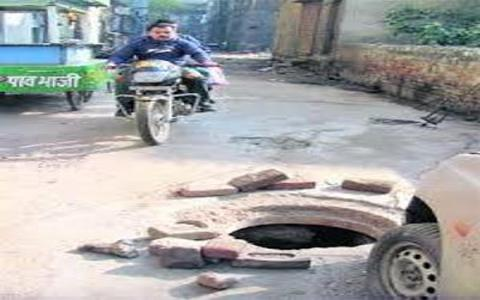open manhole: (223, 197, 382, 251)
